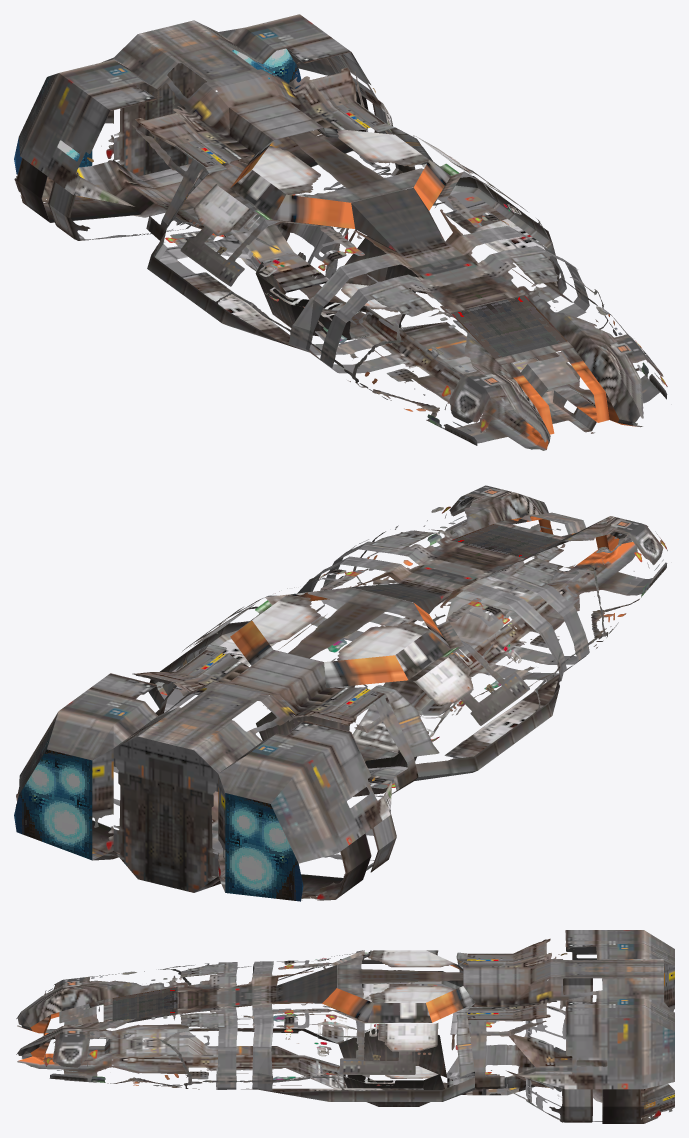
The model's file is LOD0-UVFlip.obj.
3 renders of one model, top to bottom at view 1: azimuth 30°, elevation 25°; view 2: azimuth 150°, elevation 25°; view 3: azimuth 270°, elevation 25°, orthographic. The views are drawn at different scales.
Parts seen in each view (by area): view 1: FrontUV, Badge0_MAT, burnerUV; view 2: FrontUV, burnerUV, Badge0_MAT; view 3: FrontUV, Badge0_MAT.
Boxes of the visible parts, x1,y1,x2,y2 form: FrontUV: (14, 14, 667, 450); Badge0_MAT: (451, 295, 567, 358); burnerUV: (14, 48, 301, 174); FrontUV: (15, 485, 667, 900); burnerUV: (14, 749, 303, 901); Badge0_MAT: (451, 524, 560, 558); FrontUV: (16, 930, 674, 1123); Badge0_MAT: (112, 987, 177, 1020).
Size of the model in its own units: 18.06 by 8.08 by 41.31.
